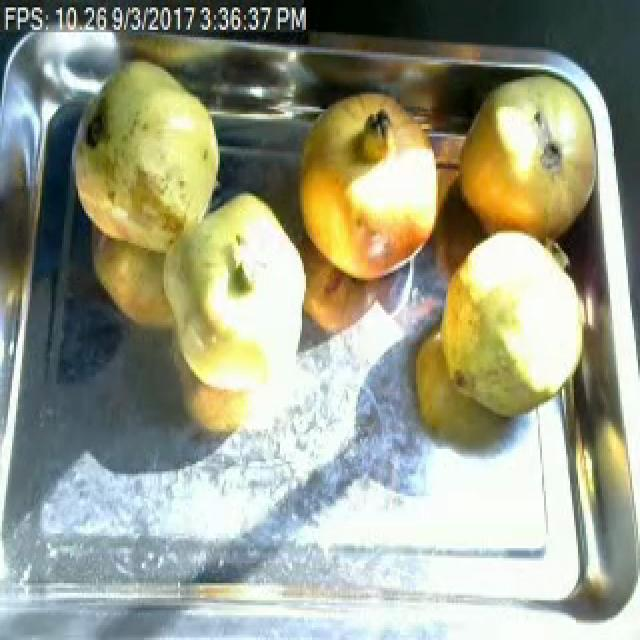fruit: (144, 171, 318, 407), (286, 84, 460, 296), (62, 50, 230, 268), (430, 218, 590, 429), (446, 62, 610, 260)
